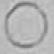no answer: (4, 1, 50, 50)
